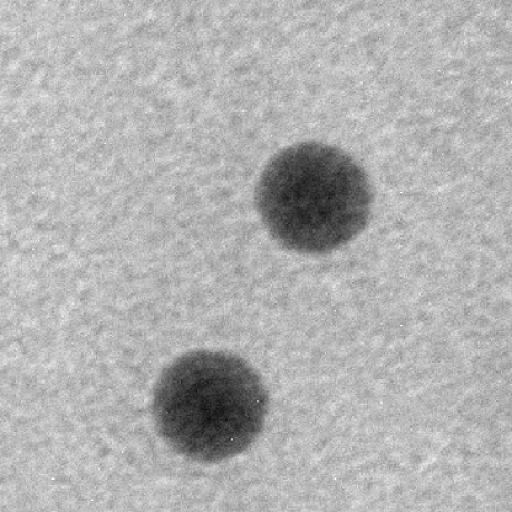Nanoparticles: (151, 341, 276, 467), (255, 134, 373, 258)
